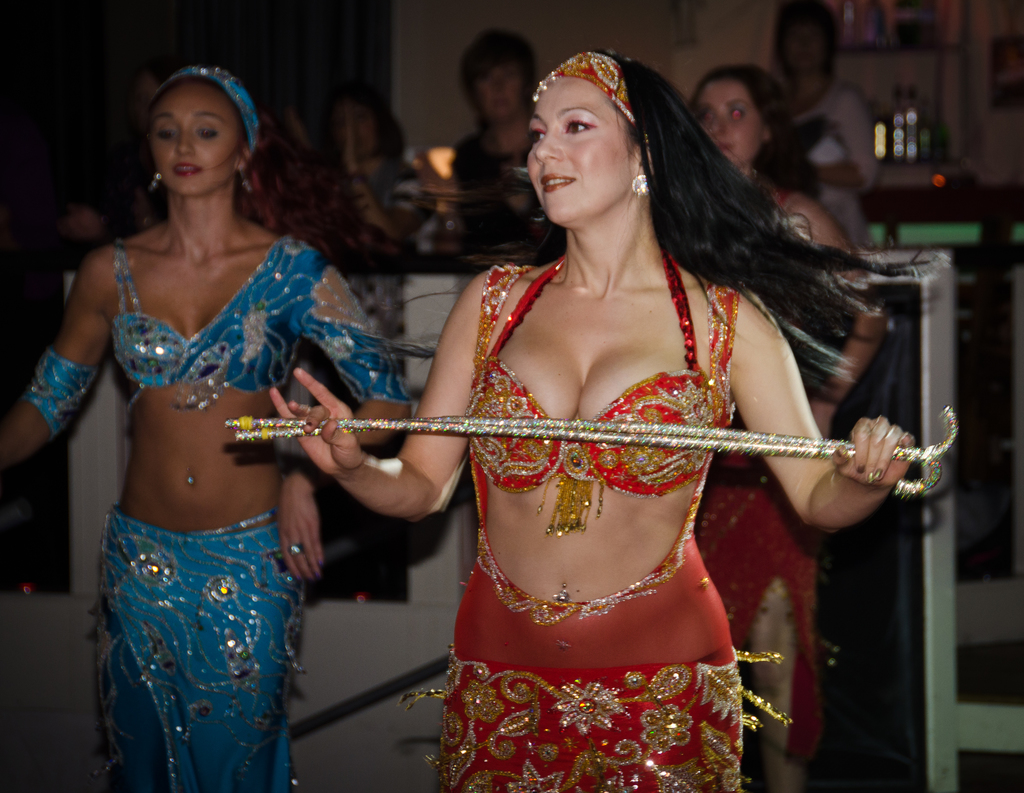Human_hand: (268, 368, 366, 478), (835, 415, 916, 492), (277, 477, 331, 581)
